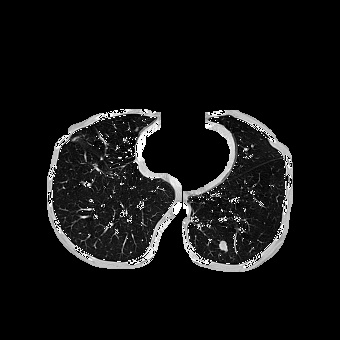PN: (218, 241, 228, 251)
